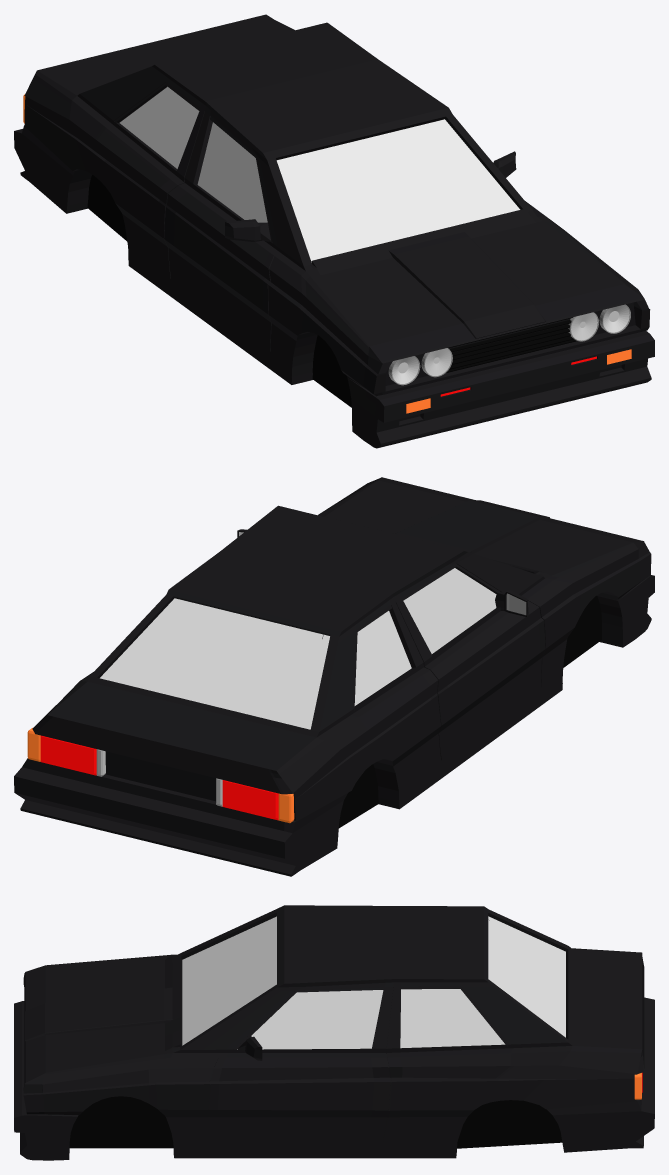
File: Yanbo_C_Sedan (3).fbx
The picture shows the model from 3 angles, top to bottom: view 1: azimuth 30°, elevation 25°; view 2: azimuth 150°, elevation 25°; view 3: azimuth 270°, elevation 25°; orthographic projection. The views are drawn at different scales.
Parts seen in each view (by area): view 1: Cube.004, front_grill.007, Cube.001, Cube.002, Cylinder.001, Cylinder, Cylinder.002, Cylinder.003; view 2: Cube.004, Cube.003, Cube, Cube.001, Cube.002; view 3: Cube.004, Cube.001, Cube.002.
Boxes of the visible parts, x1=… form: Cube.004: x1=14, y1=14, x2=654, y2=448; front_grill.007: x1=446, y1=317, x2=576, y2=372; Cube.001: x1=312, y1=335, x2=351, y2=407; Cube.002: x1=87, y1=175, x2=127, y2=241; Cylinder.001: x1=599, y1=304, x2=630, y2=333; Cylinder: x1=388, y1=356, x2=420, y2=385; Cylinder.002: x1=421, y1=348, x2=452, y2=377; Cylinder.003: x1=568, y1=312, x2=598, y2=341; Cube.004: x1=14, y1=477, x2=654, y2=876; Cube.003: x1=216, y1=778, x2=294, y2=823; Cube: x1=27, y1=728, x2=105, y2=776; Cube.001: x1=563, y1=595, x2=601, y2=667; Cube.002: x1=338, y1=764, x2=378, y2=828; Cube.004: x1=14, y1=905, x2=654, y2=1160; Cube.001: x1=69, y1=1096, x2=173, y2=1148; Cube.002: x1=457, y1=1100, x2=562, y2=1148.
Size of the model in its own units: 3.75 by 2.26 by 8.3.
